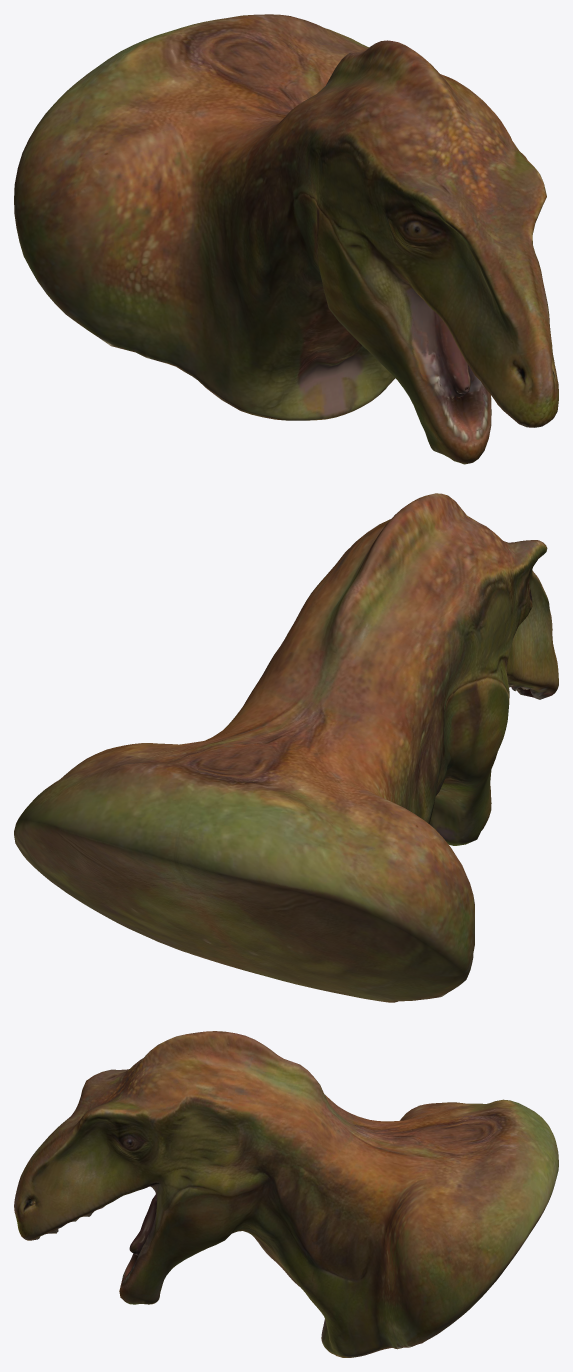
File: 07 Asfaltovenator 3D.glb
3 renders of one model, top to bottom at view 1: azimuth 30°, elevation 25°; view 2: azimuth 150°, elevation 25°; view 3: azimuth 270°, elevation 25°, orthographic. The views are drawn at different scales.
Parts seen in each view (by area): view 1: Mesh0; view 2: Mesh0; view 3: Mesh0.
Boxes of the visible parts, x1,y1,x2,y2 form: Mesh0: (14, 14, 558, 464); Mesh0: (14, 493, 558, 1002); Mesh0: (14, 1031, 558, 1357).
Size of the model in its own units: 8.07 by 7.47 by 11.95.
1 material, 1 textured.
